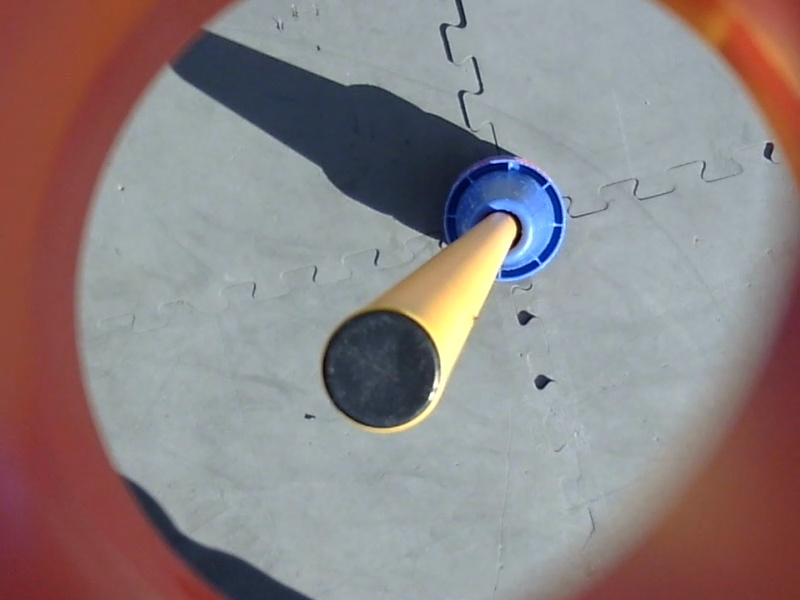tip: (316, 303, 450, 439)
